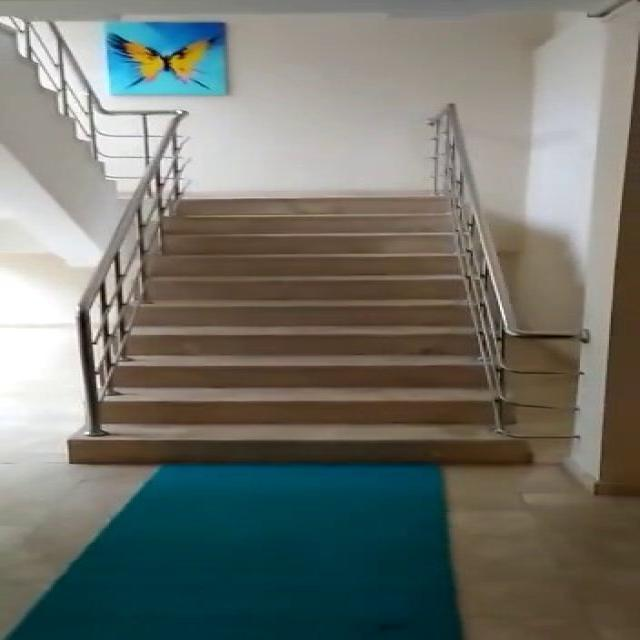stairs: (68, 193, 536, 464)
